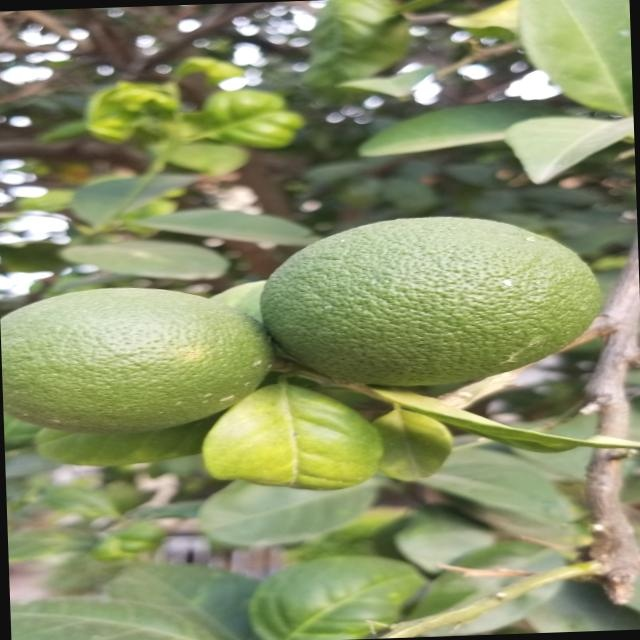agrume: (238, 210, 613, 394), (0, 280, 258, 435)
